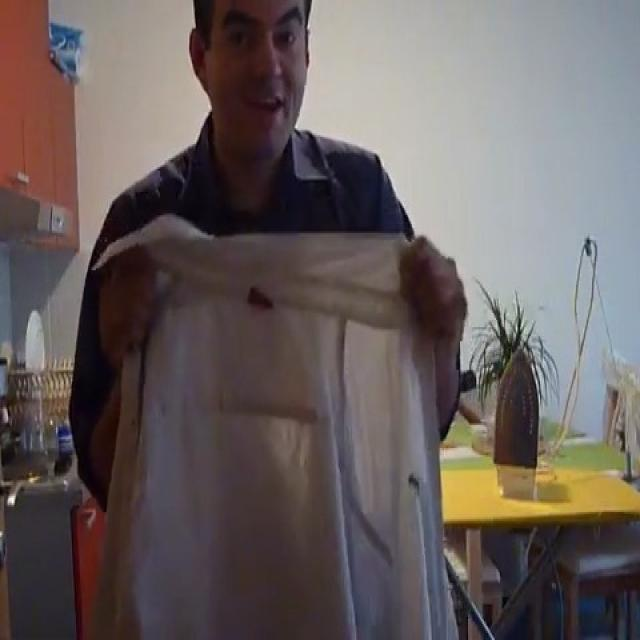Shirt: (88, 211, 458, 640), (69, 110, 460, 514)
